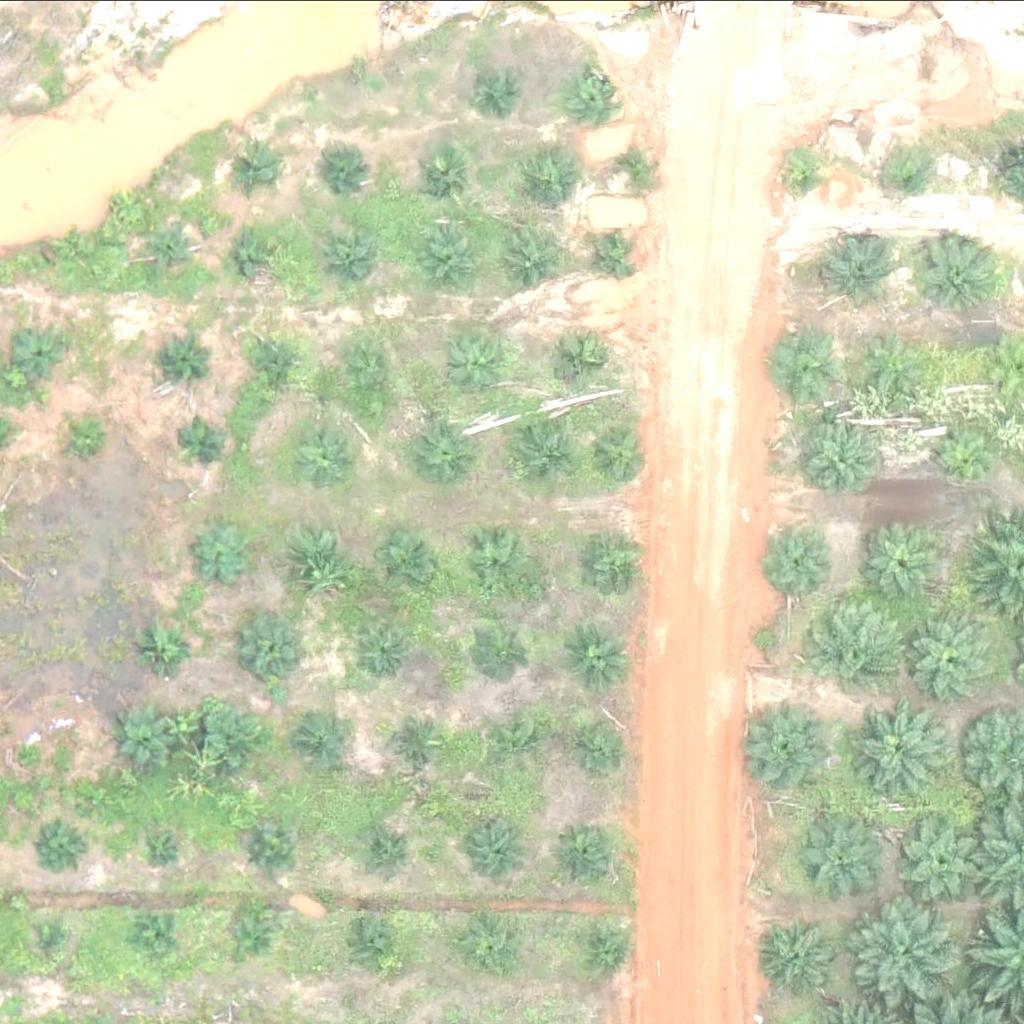Kelapa_Sawit: (849, 893, 962, 1006), (809, 596, 909, 696), (842, 701, 942, 801), (743, 699, 831, 787), (899, 818, 987, 906), (909, 611, 998, 698), (798, 412, 886, 499), (855, 517, 943, 604), (799, 820, 887, 907), (820, 234, 896, 309), (765, 524, 841, 599), (917, 234, 993, 309), (764, 918, 839, 993), (347, 342, 410, 405), (323, 227, 386, 290), (140, 619, 203, 682), (240, 615, 303, 678), (567, 628, 630, 691), (420, 229, 483, 292), (550, 819, 613, 882), (457, 908, 520, 971), (568, 918, 631, 981), (465, 532, 528, 595), (572, 534, 635, 597), (472, 618, 535, 681), (589, 422, 652, 485), (770, 333, 833, 396), (516, 142, 579, 205), (501, 228, 564, 291), (116, 705, 179, 768), (347, 912, 409, 975), (379, 532, 442, 594), (294, 421, 357, 483), (192, 522, 255, 584), (511, 419, 574, 481), (485, 707, 548, 769), (415, 422, 478, 484), (866, 328, 929, 390), (453, 333, 516, 395), (551, 328, 614, 390), (411, 143, 474, 205), (205, 704, 268, 766), (292, 526, 355, 588), (567, 712, 629, 774), (932, 429, 994, 491), (472, 816, 534, 878), (586, 228, 637, 278), (607, 142, 658, 192), (35, 821, 86, 871), (373, 821, 423, 871), (305, 719, 355, 769), (398, 711, 448, 761), (361, 628, 411, 678), (245, 825, 295, 875), (322, 139, 372, 189), (153, 332, 203, 382), (178, 414, 228, 464), (225, 907, 275, 957), (148, 225, 198, 275), (17, 326, 67, 376), (233, 229, 283, 279), (232, 143, 282, 193), (573, 71, 623, 121), (468, 61, 518, 111), (781, 149, 831, 199), (888, 153, 938, 203), (257, 335, 307, 385), (137, 821, 187, 871), (133, 908, 183, 958), (55, 229, 93, 267), (66, 417, 104, 455), (32, 922, 70, 960)
